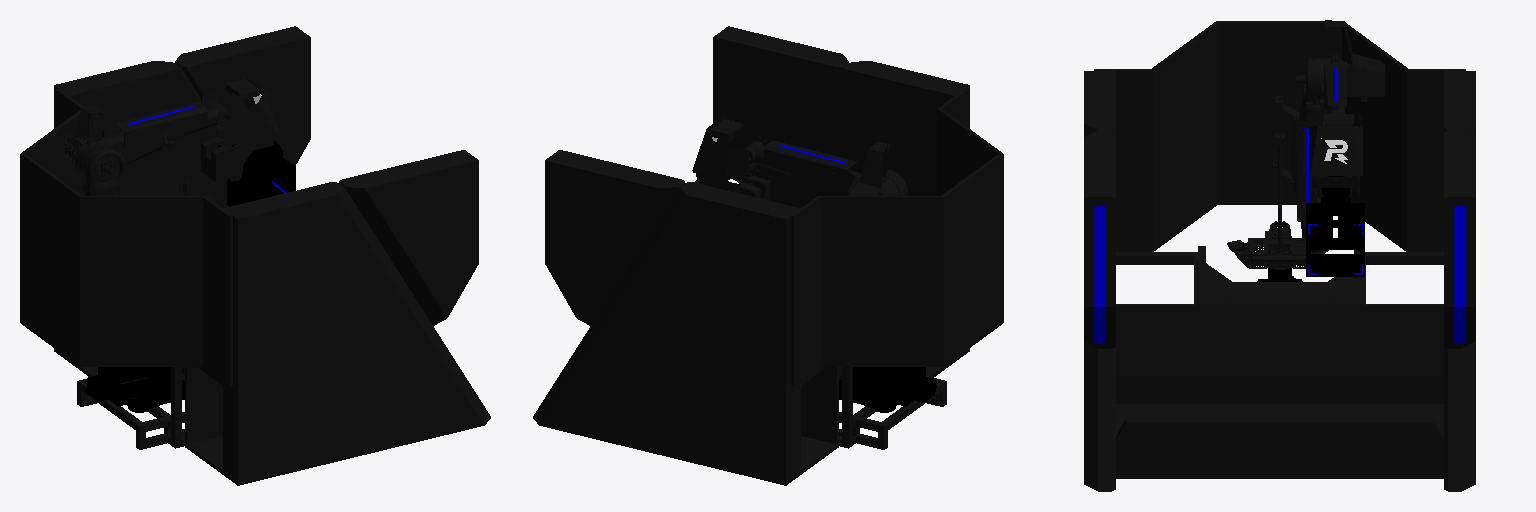
robot.urdf — Exchange_Station:
<?xml version="1.0" encoding="utf-8"?>
<!-- This URDF was automatically created by SolidWorks to URDF Exporter! Originally created by [author] ([email redacted]) 
     Commit Version: 1.6.0-4-g7f85cfe  Build Version: 1.6.7995.38578
     For more information, please see http://wiki.ros.org/sw_urdf_exporter -->
<robot
  name="Exchange_Station">
  <link
    name="base_link">
    <inertial>
      <origin
        xyz="-0.17399 -0.11056 0.083009"
        rpy="0 0 0" />
      <mass
        value="9.4012E-06" />
      <inertia
        ixx="1.0973E-11"
        ixy="-2.7657E-14"
        ixz="-1.4192E-12"
        iyy="1.0955E-09"
        iyz="5.6961E-14"
        izz="1.0845E-09" />
    </inertial>
    <visual>
      <origin
        xyz="0 0 0"
        rpy="0 0 0" />
      <geometry>
        <mesh
          filename="package://Exchange_Station/meshes/base_link.STL" />
      </geometry>
      <material
        name="">
        <color
          rgba="0 0 0 1" />
      </material>
    </visual>
    <collision>
      <origin
        xyz="0 0 0"
        rpy="0 0 0" />
      <geometry>
        <mesh
          filename="package://Exchange_Station/meshes/base_link.STL" />
      </geometry>
    </collision>
  </link>
  <link
    name="L1">
    <inertial>
      <origin
        xyz="0.092915 0.12038 0.36763"
        rpy="0 0 0" />
      <mass
        value="0.5963" />
      <inertia
        ixx="0.0060483"
        ixy="0.0010503"
        ixz="0.0018288"
        iyy="0.011589"
        iyz="0.00047736"
        izz="0.011888" />
    </inertial>
    <visual>
      <origin
        xyz="0 0 0"
        rpy="0 0 0" />
      <geometry>
        <mesh
          filename="package://Exchange_Station/meshes/L1.STL" />
      </geometry>
      <material
        name="black">
        <color
          rgba="0.1 0.1 0.1 1" />
      </material>
    </visual>
    <collision>
      <origin
        xyz="0 0 0"
        rpy="0 0 0" />
      <geometry>
        <mesh
          filename="package://Exchange_Station/meshes/L1.STL" />
      </geometry>
    </collision>
  </link>
  <joint
    name="J1"
    type="revolute">
    <origin
      xyz="0 0 0.2020000000001"
      rpy="0 0 3.1415" />
    <limit lower="-0.5" upper="0.5" effort="1000" velocity="100.0"/>
    <parent
      link="base_link" />
    <child
      link="L1" />
    <axis
      xyz="0 0 -1" />
  </joint>
  <link
    name="L2">
    <inertial>
      <origin
        xyz="0.3678 0.053005 -0.022493"
        rpy="0 0 0" />
      <mass
        value="0.37826" />
      <inertia
        ixx="0.0020262"
        ixy="0.00060414"
        ixz="-3.1207E-05"
        iyy="0.0061416"
        iyz="-1.0729E-05"
        izz="0.0061231" />
    </inertial>
    <visual>
      <origin
        xyz="0 0 0"
        rpy="0 0 0" />
      <geometry>
        <mesh
          filename="package://Exchange_Station/meshes/L2.STL" />
      </geometry>
      <material
        name="black">
        <color
          rgba="0.1 0.1 0.1 1" />
      </material>
    </visual>
    <collision>
      <origin
        xyz="0 0 0"
        rpy="0 0 0" />
      <geometry>
        <mesh
          filename="package://Exchange_Station/meshes/L2.STL" />
      </geometry>
    </collision>
  </link>
  <joint
    name="J2"
    type="revolute">
    <origin
      xyz="0.180000000000083 -0.13599999999999 0.300599999999966"
      rpy="1.5707963267949 -1.5707963267949 0" />
    <limit lower="-1.57" upper="0.2" effort="1000" velocity="100.0"/>
    <parent
      link="L1" />
    <child
      link="L2" />
    <axis
      xyz="0 0 -1" />
  </joint>
  <link
    name="L3">
    <inertial>
      <origin
        xyz="0.25184 0.10163 -0.14613"
        rpy="0 0 0" />
      <mass
        value="0.57632" />
      <inertia
        ixx="0.0046081"
        ixy="-0.00098084"
        ixz="-0.00023028"
        iyy="0.011086"
        iyz="-0.00090529"
        izz="0.011991" />
    </inertial>
    <visual>
      <origin
        xyz="0 0 0"
        rpy="0 0 0" />
      <geometry>
        <mesh
          filename="package://Exchange_Station/meshes/L3.STL" />
      </geometry>
      <material
        name="black">
        <color
          rgba="0.1 0.1 0.1 1" />
      </material>
    </visual>
    <collision>
      <origin
        xyz="0 0 0"
        rpy="0 0 0" />
      <geometry>
        <mesh
          filename="package://Exchange_Station/meshes/L3.STL" />
      </geometry>
    </collision>
  </link>
  <joint
    name="J3"
    type="continuous">
    <origin
      xyz="0.760000000000334 0 0.0229999999999997"
      rpy="3.14159265358979 0 1.5707963267949" />
    <parent
      link="L2" />
    <child
      link="L3" />
    <axis
      xyz="0 0 -1" />
  </joint>
  <link
    name="L4">
    <inertial>
      <origin
        xyz="0.03433 -0.0043916 -0.16237"
        rpy="0 0 0" />
      <mass
        value="0.5916" />
      <inertia
        ixx="0.0097819"
        ixy="-0.00011713"
        ixz="8.0765E-05"
        iyy="0.0055412"
        iyz="0.00023679"
        izz="0.0069091" />
    </inertial>
    <visual>
      <origin
        xyz="0 0 0"
        rpy="0 0 0" />
      <geometry>
        <mesh
          filename="package://Exchange_Station/meshes/L4.STL" />
      </geometry>
      <material
        name="black">
        <color
          rgba="0.1 0.1 0.1 1" />
      </material>
    </visual>
    <collision>
      <origin
        xyz="0 0 0"
        rpy="0 0 0" />
      <geometry>
        <mesh
          filename="package://Exchange_Station/meshes/L4.STL" />
      </geometry>
    </collision>
  </link>
  <joint
    name="J4"
    type="revolute">
    <origin
      xyz="0.75560833937857 0.0815845418051784 -0.112999999999991"
      rpy="1.5707963267949 0 -1.57079632679498" />
    <limit lower="-1" upper="1" effort="1000" velocity="100.0"/>
    <parent
      link="L3" />
    <child
      link="L4" />
    <axis
      xyz="0 1 0" />
  </joint>
  <link
    name="L_R">
    <inertial>
      <origin
        xyz="0.0042943 4.5581E-05 -0.25221"
        rpy="0 0 0" />
      <mass
        value="0.11162" />
      <inertia
        ixx="0.00022253"
        ixy="-3.4643E-08"
        ixz="5.2044E-05"
        iyy="0.00020864"
        iyz="9.2825E-09"
        izz="0.00040282" />
    </inertial>
    <visual>
      <origin
        xyz="0 0 0"
        rpy="0 0 0" />
      <geometry>
        <mesh
          filename="package://Exchange_Station/meshes/L_R.STL" />
      </geometry>
      <material
        name="white">
        <color
          rgba="1 1 1 1" />
      </material>
    </visual>
    <collision>
      <origin
        xyz="0 0 0"
        rpy="0 0 0" />
      <geometry>
        <mesh
          filename="package://Exchange_Station/meshes/L_R.STL" />
      </geometry>
    </collision>
  </link>
  <joint
    name="J_R"
    type="fixed">
    <origin
      xyz="0 0 0"
      rpy="0 0 0" />
    <parent
      link="L4" />
    <child
      link="L_R" />
    <axis
      xyz="0 0 0" />
  </joint>
  <link
    name="L5">
    <inertial>
      <origin
        xyz="-0.056925 0.00034473 -0.12809"
        rpy="0 0 0" />
      <mass
        value="0.81651" />
      <inertia
        ixx="0.0055956"
        ixy="-8.8387E-06"
        ixz="-0.0010187"
        iyy="0.0046705"
        iyz="-4.151E-06"
        izz="0.0062184" />
    </inertial>
    <visual>
      <origin
        xyz="0 0 0"
        rpy="0 0 0" />
      <geometry>
        <mesh
          filename="package://Exchange_Station/meshes/L5.STL" />
      </geometry>
      <material
        name="black">
        <color
          rgba="0.1 0.1 0.1 1" />
      </material>
    </visual>
    <collision>
      <origin
        xyz="0 0 0"
        rpy="0 0 0" />
      <geometry>
        <mesh
          filename="package://Exchange_Station/meshes/L5.STL" />
      </geometry>
    </collision>
  </link>
  <joint
    name="J5"
    type="revolute">
    <origin
      xyz="0.102000000000068 0 -0.124999999999341"
      rpy="3.14159265358979 1.5707963267949 0" />
      <limit lower="-3" upper="3" effort="1000" velocity="100.0"/>
    <parent
      link="L4" />
    <child
      link="L5" />
    <axis
      xyz="0 0 -1" />
  </joint>
  <link
    name="L6">
    <inertial>
      <origin
        xyz="0.097767 0.0031698 -2.7583E-06"
        rpy="0 0 0" />
      <mass
        value="0.57087" />
      <inertia
        ixx="0.00086381"
        ixy="4.4117E-05"
        ixz="-3.7729E-08"
        iyy="0.0020582"
        iyz="1.5453E-08"
        izz="0.0023299" />
    </inertial>
    <visual>
      <origin
        xyz="0 0 0"
        rpy="0 0 0" />
      <geometry>
        <mesh
          filename="package://Exchange_Station/meshes/L6.STL" />
      </geometry>
      <material
        name="black">
        <color
          rgba="0 0 0 1" />
      </material>
    </visual>
    <collision>
      <origin
        xyz="0 0 0"
        rpy="0 0 0" />
      <geometry>
        <mesh
          filename="package://Exchange_Station/meshes/L6.STL" />
      </geometry>
    </collision>
  </link>
  <joint
    name="J6"
    type="revolute">
    <origin
      xyz="-0.0394999999993146 0 -0.172200000000226"
      rpy="1.5707963267949 0 0" />
    <limit lower="-1.57" upper="1.57" effort="1000" velocity="100.0"/>
    <parent
      link="L5" />
    <child
      link="L6" />
    <axis
      xyz="1 0 0" />
  </joint>
  <link
    name="L7">
    <inertial>
      <origin
        xyz="0.16867 -0.048474 -5.3494E-05"
        rpy="0 0 0" />
      <mass
        value="1.6402" />
      <inertia
        ixx="0.010063"
        ixy="0.00028921"
        ixz="-9.5832E-06"
        iyy="0.011465"
        iyz="2.5283E-07"
        izz="0.012279" />
    </inertial>
    <visual>
      <origin
        xyz="0 0 0"
        rpy="0 0 0" />
      <geometry>
        <mesh
          filename="package://Exchange_Station/meshes/L7.STL" />
      </geometry>
      <material
        name="black">
        <color
          rgba="0 0 0 1" />
      </material>
    </visual>
    <collision>
      <origin
        xyz="0 0 0"
        rpy="0 0 0" />
      <geometry>
        <mesh
          filename="package://Exchange_Station/meshes/L7.STL" />
      </geometry>
    </collision>
  </link>
  <joint
    name="J7"
    type="continuous">
    <origin
      xyz="0.209499999999998 0 0"
      rpy="0 0 -1.5707963267949" />
    <parent
      link="L6" />
    <child
      link="L7" />
    <axis
      xyz="0 0 -1" />
  </joint>
  <link
    name="L_lighit">
    <inertial>
      <origin
        xyz="0.19945 0.021135 0.0019544"
        rpy="0 0 0" />
      <mass
        value="0.082498" />
      <inertia
        ixx="4.5664E-05"
        ixy="1.9456E-09"
        ixz="-2.0864E-07"
        iyy="0.00016304"
        iyz="1.9456E-09"
        izz="0.00018554" />
    </inertial>
    <visual>
      <origin
        xyz="0 0 0"
        rpy="0 0 0" />
      <geometry>
        <mesh
          filename="package://Exchange_Station/meshes/L_lighit.STL" />
      </geometry>
      <material
        name="blue">
        <color
          rgba="0 0 1 1" />
      </material>
    </visual>
    <collision>
      <origin
        xyz="0 0 0"
        rpy="0 0 0" />
      <geometry>
        <mesh
          filename="package://Exchange_Station/meshes/L_lighit.STL" />
      </geometry>
    </collision>
  </link>
  <joint
    name="J_light"
    type="fixed">
    <origin
      xyz="0 0 0"
      rpy="0 0 0" />
    <parent
      link="L7" />
    <child
      link="L_lighit" />
    <axis
      xyz="0 0 0" />
  </joint>
  <link
    name="L_RFID">
    <inertial>
      <origin
        xyz="0.18974 -0.31939 -9.413E-07"
        rpy="0 0 0" />
      <mass
        value="0.021955" />
      <inertia
        ixx="1.914E-05"
        ixy="3.5924E-10"
        ixz="1.544E-09"
        iyy="3.3439E-05"
        iyz="3.6333E-11"
        izz="1.4478E-05" />
    </inertial>
    <visual>
      <origin
        xyz="0 0 0"
        rpy="0 0 0" />
      <geometry>
        <mesh
          filename="package://Exchange_Station/meshes/L_RFID.STL" />
      </geometry>
      <material
        name="black">
        <color
          rgba="0 0 0 1" />
      </material>
    </visual>
    <collision>
      <origin
        xyz="0 0 0"
        rpy="0 0 0" />
      <geometry>
        <mesh
          filename="package://Exchange_Station/meshes/L_RFID.STL" />
      </geometry>
    </collision>
  </link>
  <joint
    name="J_RFID"
    type="fixed">
    <origin
      xyz="0 -0.209499999999998 0"
      rpy="0 0 1.5707963267949" />
    <parent
      link="L7" />
    <child
      link="L_RFID" />
    <axis
      xyz="0 0 0" />
  </joint>
  <link
    name="L3_light">
    <inertial>
      <origin
        xyz="0.40024 0.15517 -0.1145"
        rpy="0 0 0" />
      <mass
        value="0.086481" />
      <inertia
        ixx="9.114E-06"
        ixy="-3.5903E-05"
        ixz="-2.0425E-19"
        iyy="0.0012664"
        iyz="-5.9429E-21"
        izz="0.0012608" />
    </inertial>
    <visual>
      <origin
        xyz="0 0 0"
        rpy="0 0 0" />
      <geometry>
        <mesh
          filename="package://Exchange_Station/meshes/L3_light.STL" />
      </geometry>
      <material
        name="blue">
        <color
          rgba="0 0 1 1" />
      </material>
    </visual>
    <collision>
      <origin
        xyz="0 0 0"
        rpy="0 0 0" />
      <geometry>
        <mesh
          filename="package://Exchange_Station/meshes/L3_light.STL" />
      </geometry>
    </collision>
  </link>
  <joint
    name="J3_light"
    type="fixed">
    <origin
      xyz="0 0 0"
      rpy="0 0 0" />
    <parent
      link="L3" />
    <child
      link="L3_light" />
    <axis
      xyz="0 0 0" />
  </joint>
  <link
    name="L2_light">
    <inertial>
      <origin
        xyz="0.3206 0.11457 -0.0044615"
        rpy="0 0 0" />
      <mass
        value="0.094971" />
      <inertia
        ixx="2.0474E-05"
        ixy="0.00013122"
        ixz="-5.218E-07"
        iyy="0.0015625"
        iyz="3.6663E-08"
        izz="0.0015658" />
    </inertial>
    <visual>
      <origin
        xyz="0 0 0"
        rpy="0 0 0" />
      <geometry>
        <mesh
          filename="package://Exchange_Station/meshes/L2_light.STL" />
      </geometry>
      <material
        name="blue">
        <color
          rgba="0 0 1 1" />
      </material>
    </visual>
    <collision>
      <origin
        xyz="0 0 0"
        rpy="0 0 0" />
      <geometry>
        <mesh
          filename="package://Exchange_Station/meshes/L2_light.STL" />
      </geometry>
    </collision>
  </link>
  <joint
    name="J2_light"
    type="fixed">
    <origin
      xyz="0 0 0"
      rpy="0 0 0" />
    <parent
      link="L2" />
    <child
      link="L2_light" />
    <axis
      xyz="0 0 0" />
  </joint>
  <link
    name="L_base">
    <inertial>
      <origin
        xyz="0.63324 -1.5884E-06 0.49081"
        rpy="0 0 0" />
      <mass
        value="895.46" />
      <inertia
        ixx="208.61"
        ixy="0.00013734"
        ixz="-13.965"
        iyy="288.89"
        iyz="-0.00015526"
        izz="165.51" />
    </inertial>
    <visual>
      <origin
        xyz="0 0 0"
        rpy="0 0 0" />
      <geometry>
        <mesh
          filename="package://Exchange_Station/meshes/L_base.STL" />
      </geometry>
      <material
        name="">
        <color
          rgba="0.1 0.1 0.1 1" />
      </material>
    </visual>
    <collision>
      <origin
        xyz="0 0 0"
        rpy="0 0 0" />
      <geometry>
        <mesh
          filename="package://Exchange_Station/meshes/L_base.STL" />
      </geometry>
    </collision>
  </link>
  <joint
    name="J_base"
    type="fixed">
    <origin
      xyz="0 0 0"
      rpy="0 0 0" />
    <parent
      link="base_link" />
    <child
      link="L_base" />
    <axis
      xyz="0 0 0" />
  </joint>
  <link
    name="L_base_light">
    <inertial>
      <origin
        xyz="1.3892 -6.2172E-15 0.91167"
        rpy="0 0 0" />
      <mass
        value="0.10016" />
      <inertia
        ixx="0.005845"
        ixy="2.8599E-19"
        ixz="-0.0011639"
        iyy="0.0061837"
        iyz="-3.4345E-18"
        izz="0.00039888" />
    </inertial>
    <visual>
      <origin
        xyz="0 0 0"
        rpy="0 0 0" />
      <geometry>
        <mesh
          filename="package://Exchange_Station/meshes/L_base_light.STL" />
      </geometry>
      <material
        name="blue">
        <color
          rgba="0 0 1 1" />
      </material>
    </visual>
    <collision>
      <origin
        xyz="0 0 0"
        rpy="0 0 0" />
      <geometry>
        <mesh
          filename="package://Exchange_Station/meshes/L_base_light.STL" />
      </geometry>
    </collision>
  </link>
  <joint
    name="J_base_light"
    type="fixed">
    <origin
      xyz="0 0 0"
      rpy="0 0 0" />
    <parent
      link="L_base" />
    <child
      link="L_base_light" />
    <axis
      xyz="0 0 0" />
  </joint>
</robot>

--- What the picture shows (computed from the rendered views, not written in the file) ---
3 views of the same robot in one strip: view 1: azimuth 30°, elevation 25°; view 2: azimuth 150°, elevation 25°; view 3: azimuth 270°, elevation 25° (orthographic).
Robot: Exchange_Station — 15 links, 14 joints (5 revolute, 2 continuous, 7 fixed); root link base_link; default pose: every joint at zero.
Links seen in each view (by area): view 1: L_base, L3, base_link, L4, L7, L5, L2; view 2: L_base, L3, base_link, L4, L5; view 3: L_base, L7, L_base_light, L2, L3, L1, L4, L6, L5.
Boxes of the visible links, left/top/right/bottom form: L_base: left=20, top=26, right=490, bottom=485; L3: left=61, top=102, right=232, bottom=177; base_link: left=86, top=367, right=184, bottom=412; L4: left=201, top=78, right=278, bottom=141; L7: left=227, top=146, right=295, bottom=206; L5: left=201, top=129, right=274, bottom=181; L2: left=81, top=145, right=123, bottom=195; L_base: left=533, top=26, right=1003, bottom=485; L3: left=743, top=140, right=899, bottom=208; base_link: left=839, top=367, right=936, bottom=412; L4: left=692, top=116, right=767, bottom=180; L5: left=696, top=168, right=770, bottom=200; L_base: left=1084, top=21, right=1475, bottom=491; L7: left=1306, top=197, right=1364, bottom=276; L_base_light: left=1094, top=206, right=1465, bottom=343; L2: left=1273, top=58, right=1323, bottom=237; L3: left=1306, top=20, right=1384, bottom=125; L1: left=1227, top=134, right=1328, bottom=269; L4: left=1309, top=113, right=1362, bottom=175; L6: left=1321, top=176, right=1349, bottom=216; L5: left=1312, top=176, right=1359, bottom=197.
Size in the robot's own frame: 2.14 by 1.91 by 1.71 metres.
Meshes: 15 distinct files referenced, 15 mesh visuals loaded (15 binary STL).